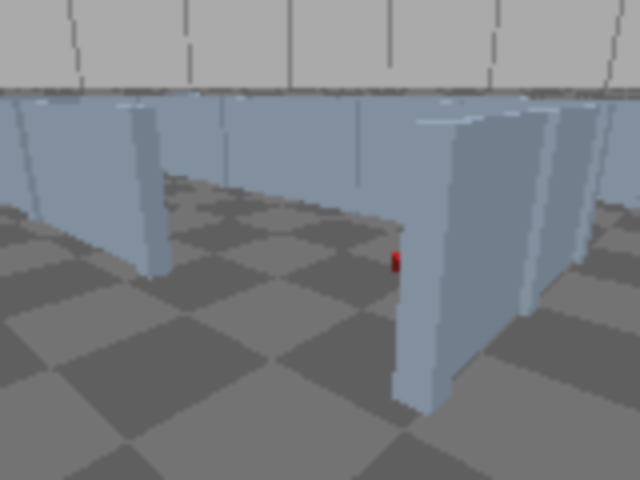puck: (391, 253, 409, 271)
